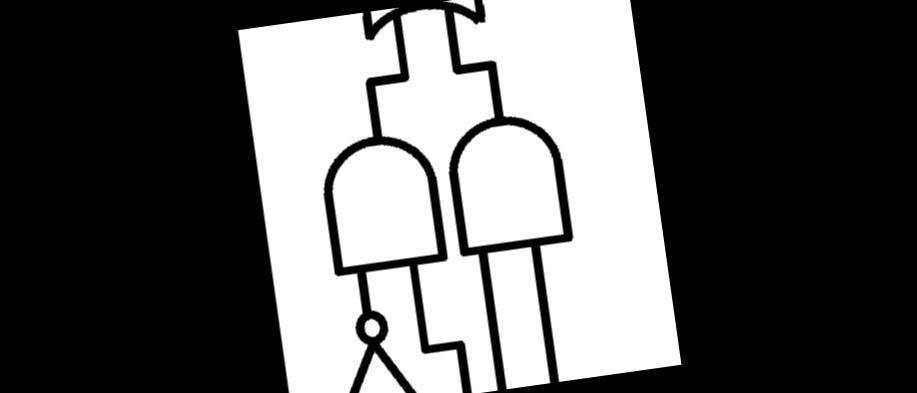and: (433, 74, 586, 272), (292, 104, 452, 290)
not: (301, 289, 446, 393)
or: (352, 0, 500, 54)
